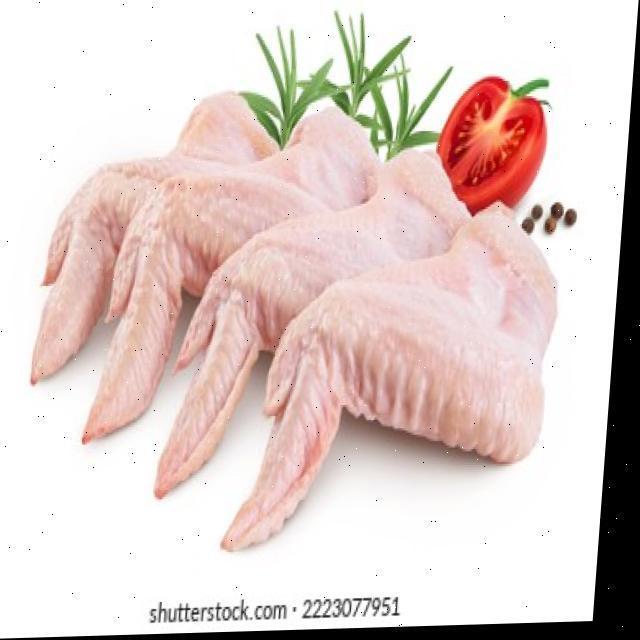wing: (270, 213, 574, 552), (179, 159, 462, 477), (0, 55, 277, 357), (108, 133, 372, 408)
